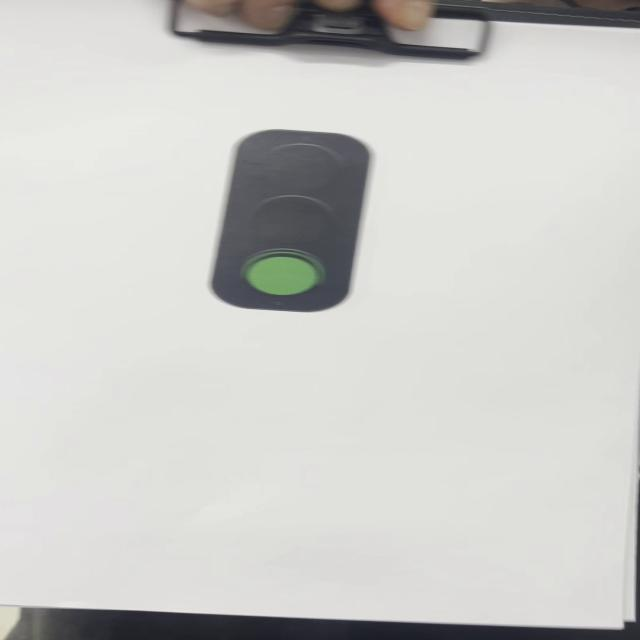green: (212, 127, 370, 313)
